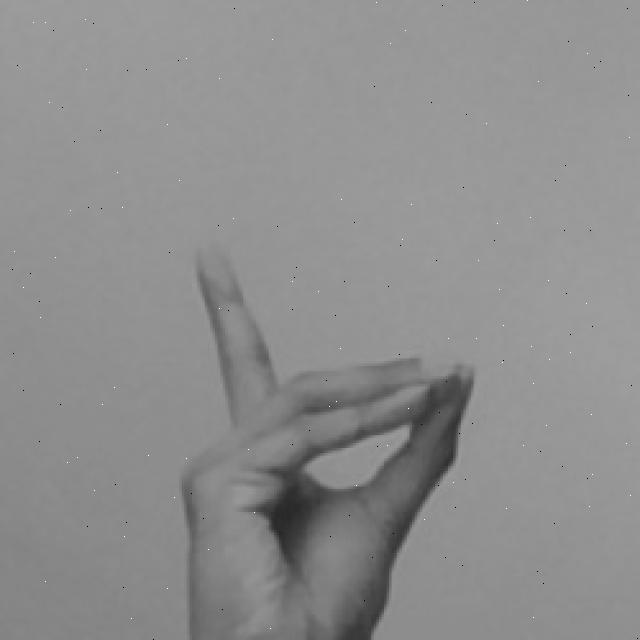D: (174, 230, 479, 640)
